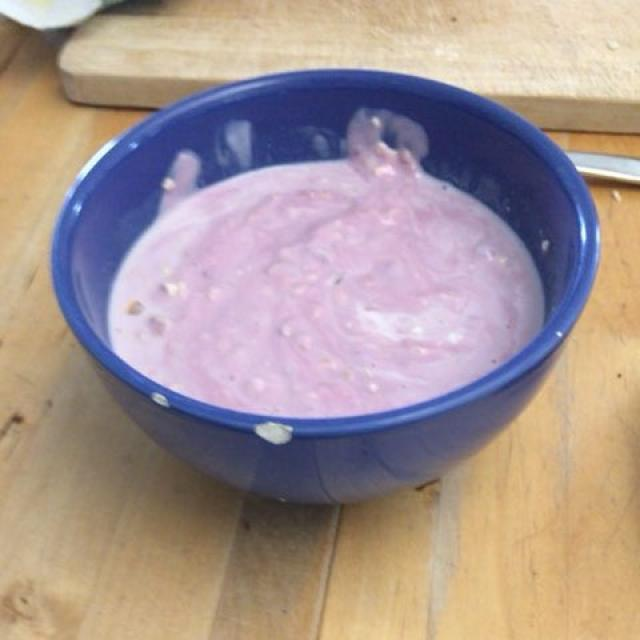birchermuesli-prepared-no-sugar-added: (114, 119, 531, 407)
